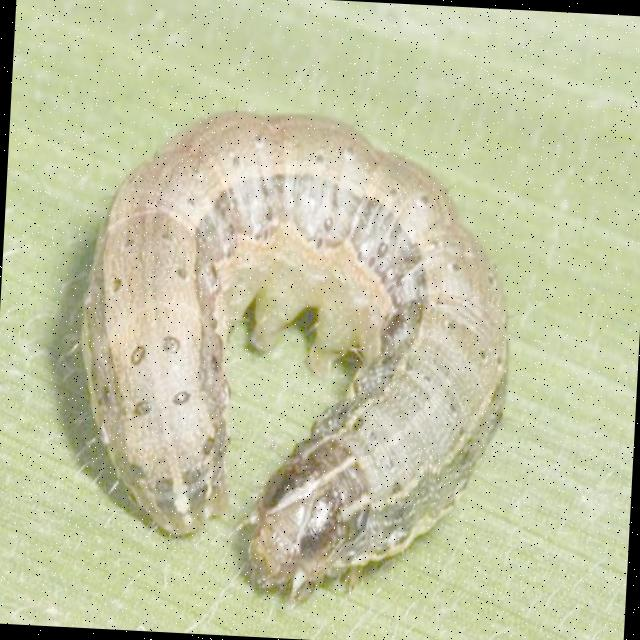worm: (65, 100, 524, 617)
